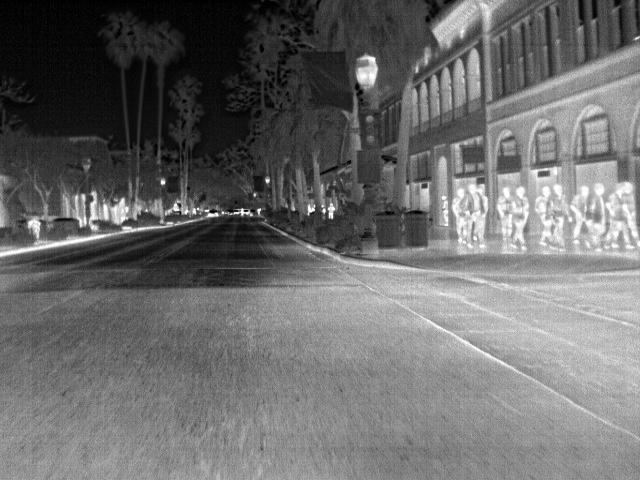person: (547, 185, 573, 252), (607, 182, 633, 248), (588, 183, 608, 250), (570, 184, 591, 241), (450, 185, 469, 242), (494, 186, 513, 243), (511, 184, 528, 244), (468, 185, 485, 243), (621, 182, 639, 234), (534, 185, 551, 222), (325, 201, 337, 222)
